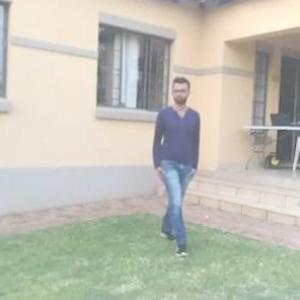follow: (150, 68, 207, 259)
